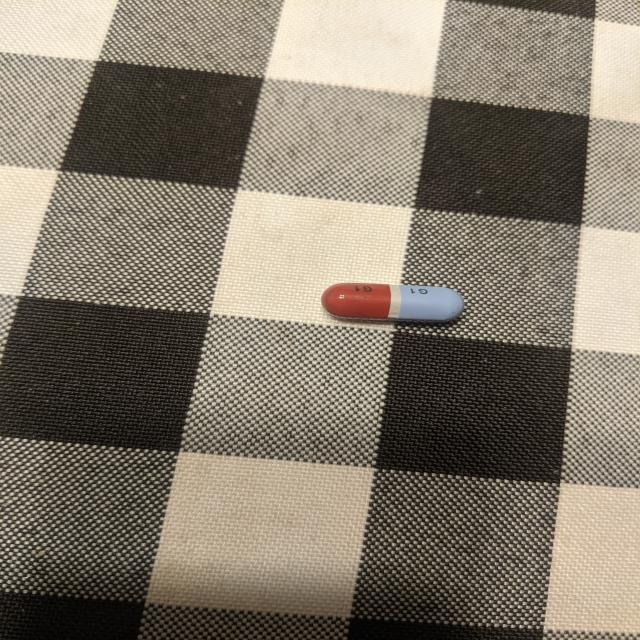non-organic waste: (317, 277, 470, 327)
